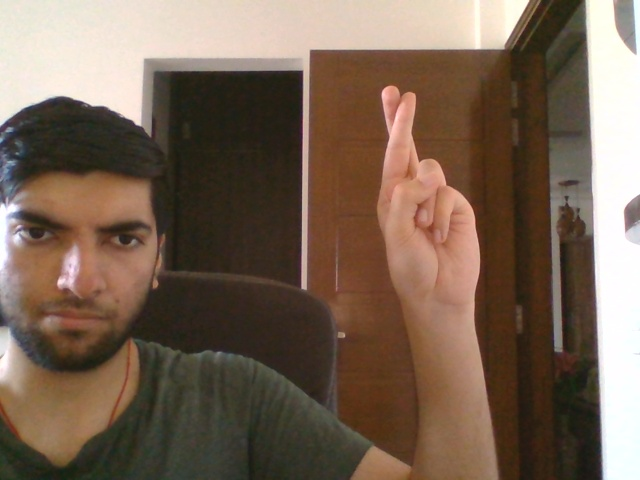LetterR: (375, 84, 482, 315)
